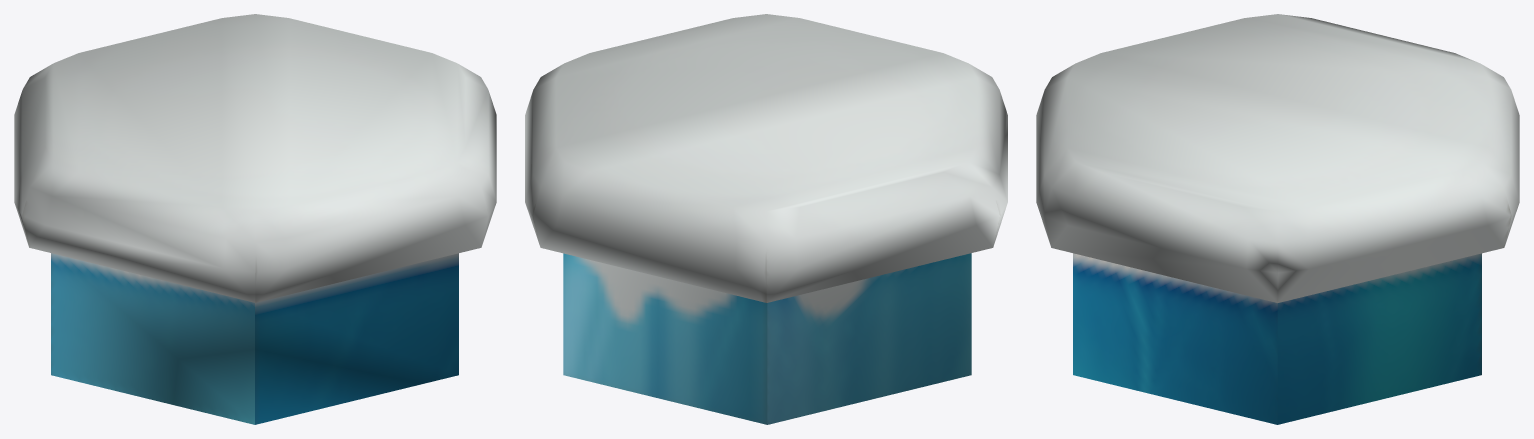
File: Ice_tile_01.fbx
The picture shows the model from 3 angles, left to right: view 1: azimuth 30°, elevation 25°; view 2: azimuth 150°, elevation 25°; view 3: azimuth 270°, elevation 25°; orthographic projection.
Parts seen in each view (by area): view 1: Ice_tile_01; view 2: Ice_tile_01; view 3: Ice_tile_01.
Boxes of the visible parts, x1=… form: Ice_tile_01: x1=14, y1=14, x2=496, y2=424; Ice_tile_01: x1=525, y1=14, x2=1007, y2=424; Ice_tile_01: x1=1036, y1=14, x2=1519, y2=424.
Bounding box in the file's own units: 139 × 60.32 × 124.
